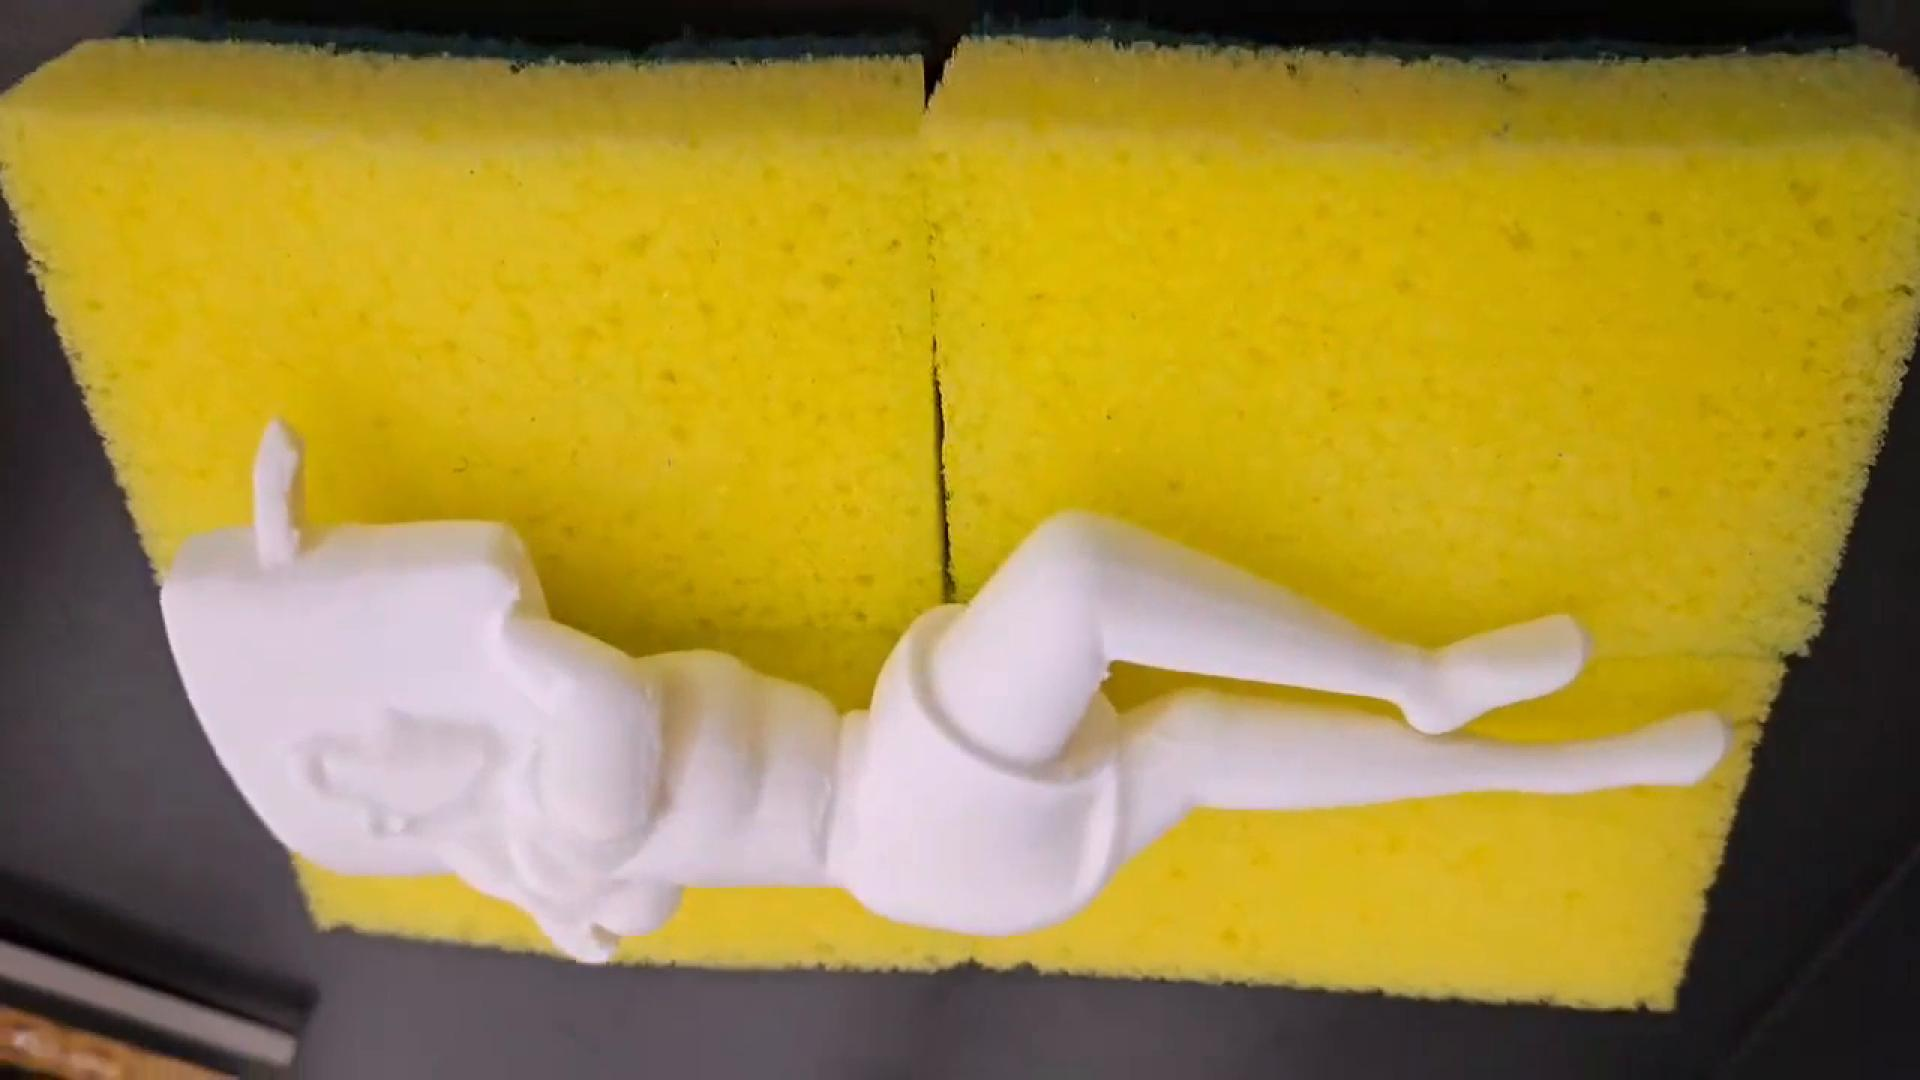Good-style: (156, 415, 1729, 975)
